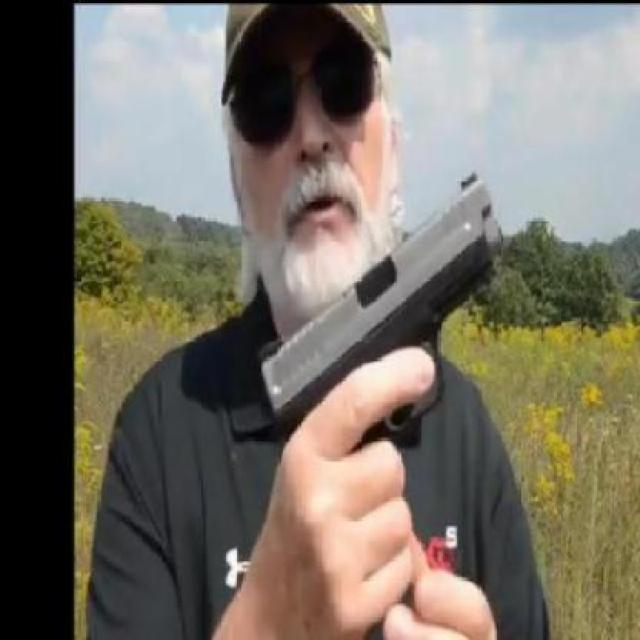gun: (256, 172, 506, 586)
